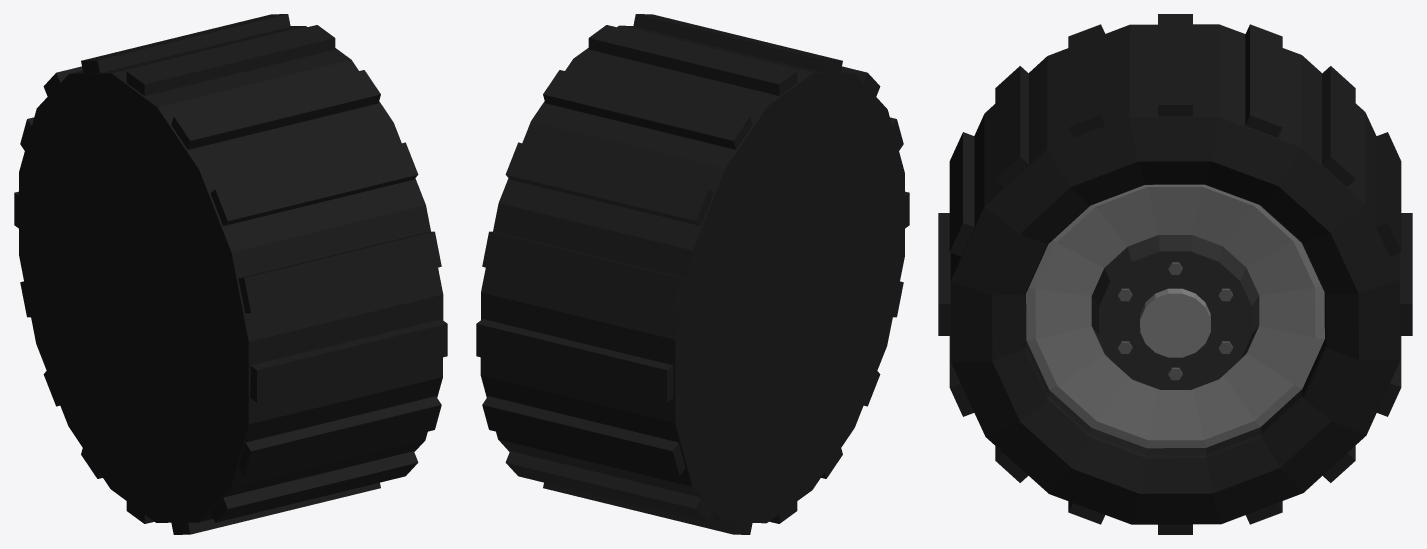
The model's file is Wheel_04.fbx.
3 renders of one model, left to right at view 1: azimuth 30°, elevation 25°; view 2: azimuth 150°, elevation 25°; view 3: azimuth 270°, elevation 25°, orthographic. The views are drawn at different scales.
Visible parts, largest first — view 1: Wheel_04; view 2: Wheel_04; view 3: Wheel_04.
Part boxes in pixels (bbox=[...]): Wheel_04: bbox=[14, 14, 447, 534]; Wheel_04: bbox=[476, 14, 909, 534]; Wheel_04: bbox=[938, 14, 1412, 534].
Size of the model in its own units: 37.25 by 75.14 by 75.14.
